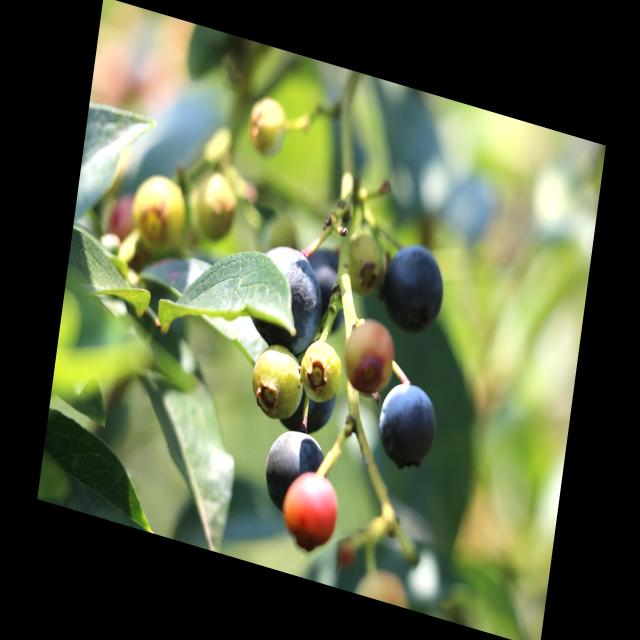blueberry: (240, 230, 334, 370), (256, 415, 336, 533), (373, 231, 453, 347), (368, 367, 447, 482), (288, 237, 362, 347), (269, 350, 343, 450)
blueberry-halfripe: (338, 308, 406, 408), (279, 465, 344, 558)
blueberry-unripe: (244, 335, 309, 429), (129, 168, 190, 256), (296, 330, 346, 407), (191, 166, 239, 245), (246, 86, 288, 164)
